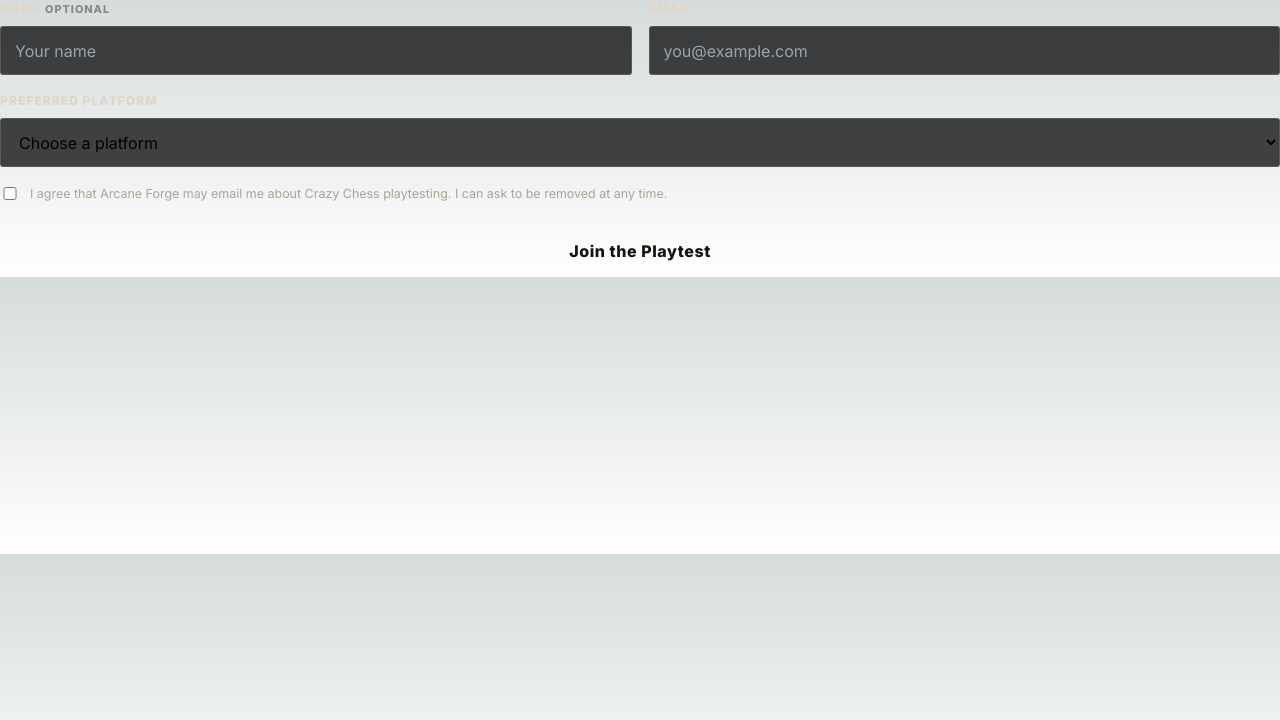
PlaytestSignupForm › keeps the form available after a retryable error
Type "tester@example.com" into the field labelled "Email".
click(964, 51); type("tester@example.com")  # box top-left (648, 26), bottom-right (1279, 75)
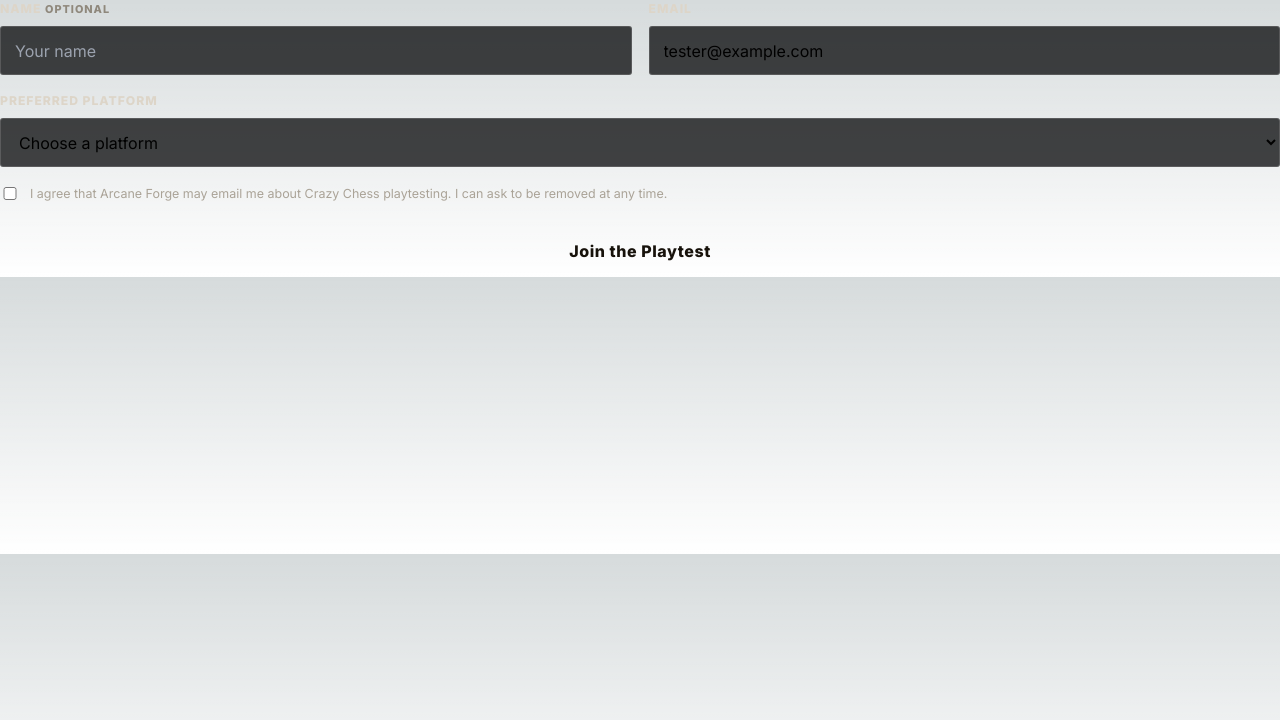
Select "iOS" in the dropdown labelled "Preferred platform" at (640, 143), box top-left (0, 118), bottom-right (1279, 168)
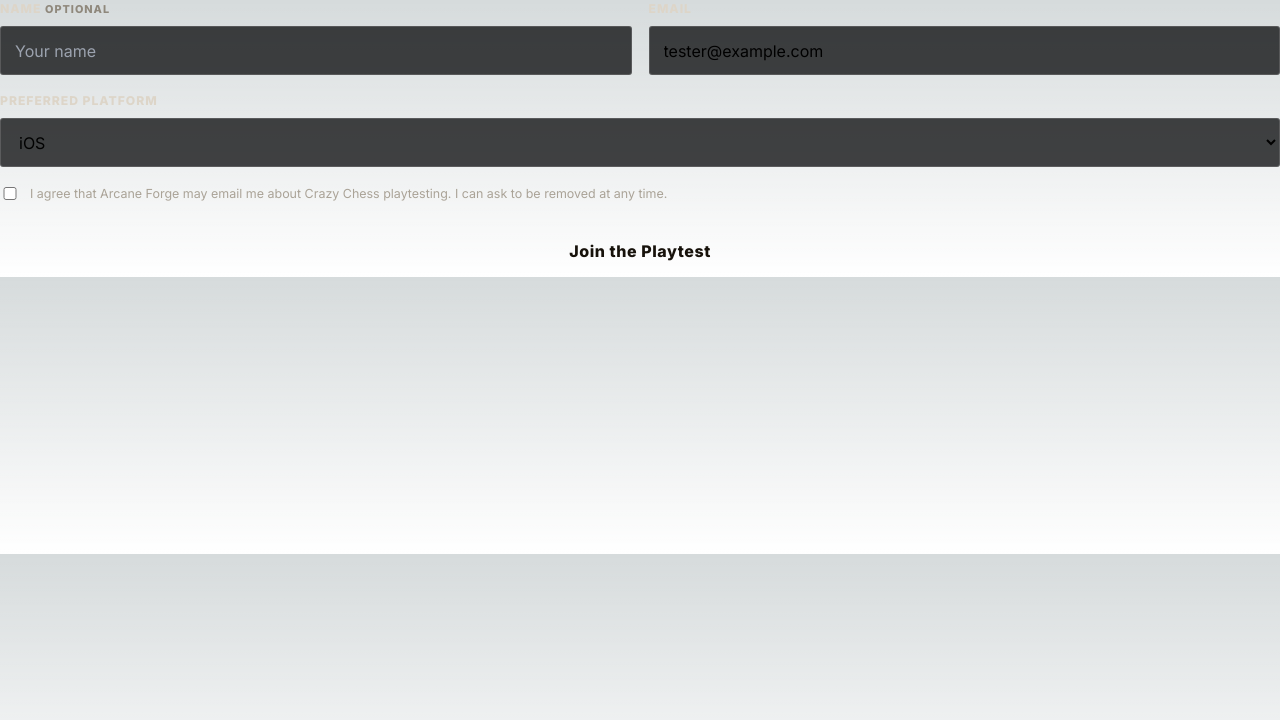
Click the checkbox labelled "I agree that Arcane Forge".
click(10, 194)  # box top-left (0, 188), bottom-right (20, 200)
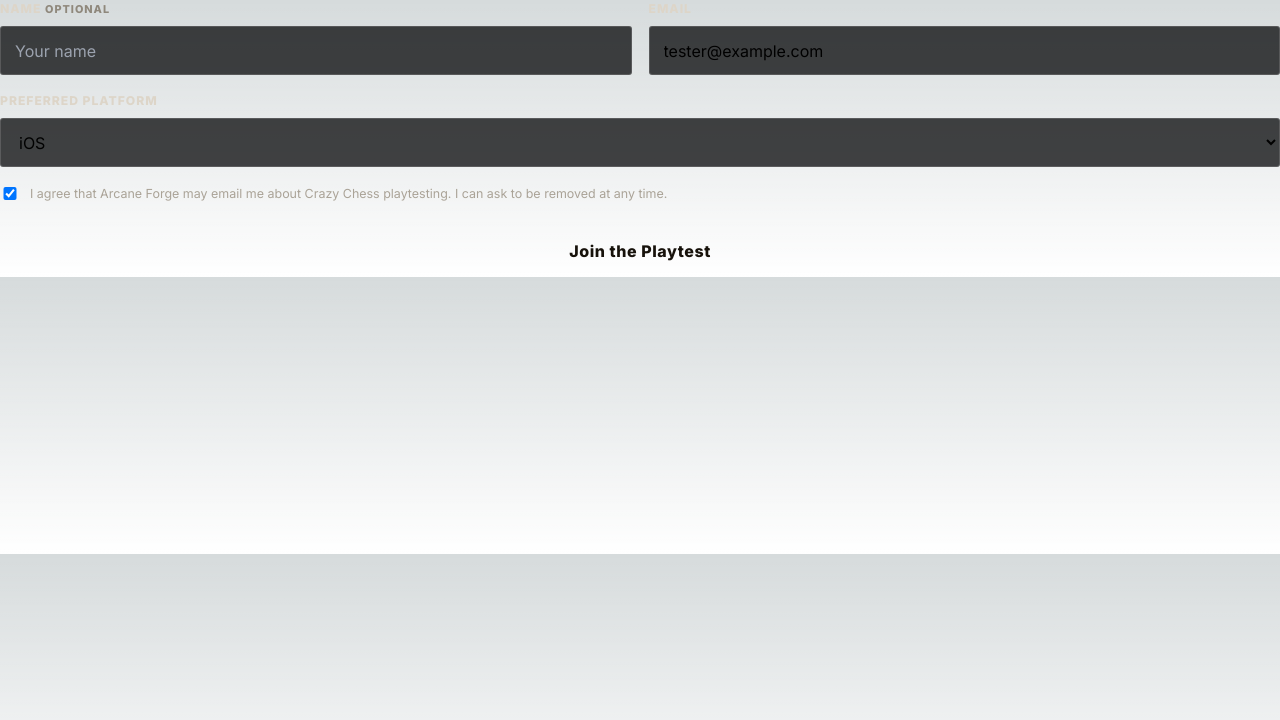
Click the button "Join the Playtest".
click(640, 251)  # box top-left (0, 225), bottom-right (1279, 277)
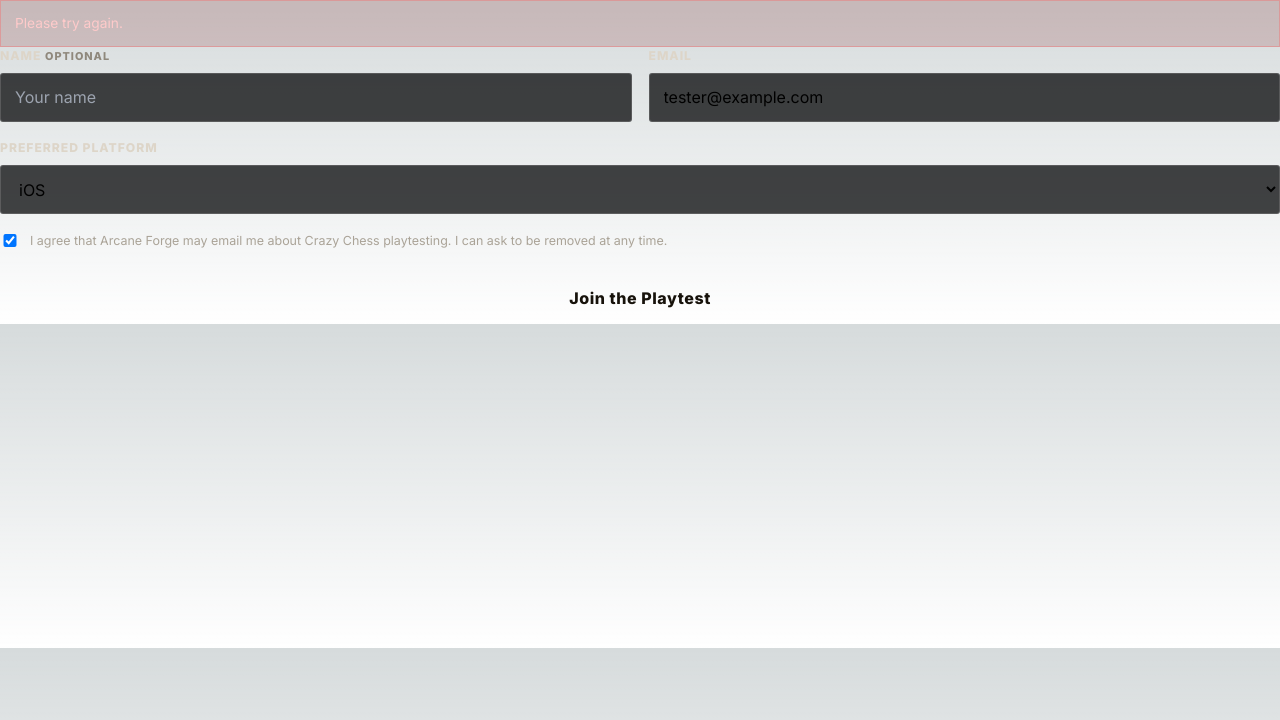
Check: the button "Join the Playtest" is enabled, box top-left (0, 272), bottom-right (1279, 324)
Check: the message reads "Please try again.", box top-left (15, 15), bottom-right (123, 31)
